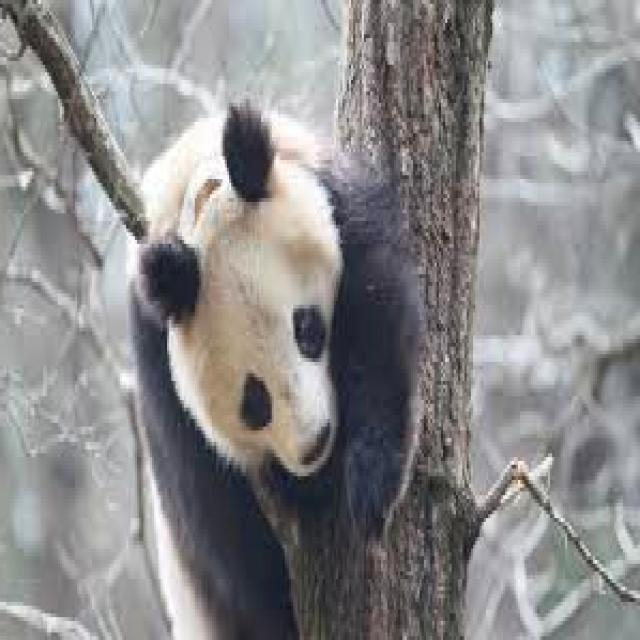panda: (131, 103, 417, 636)
